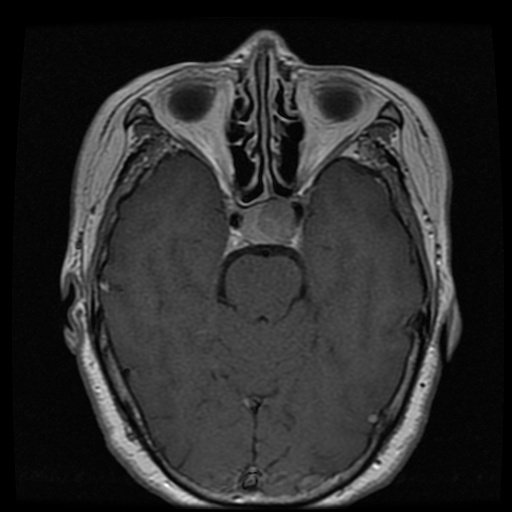pituitary: (238, 193, 303, 246)
